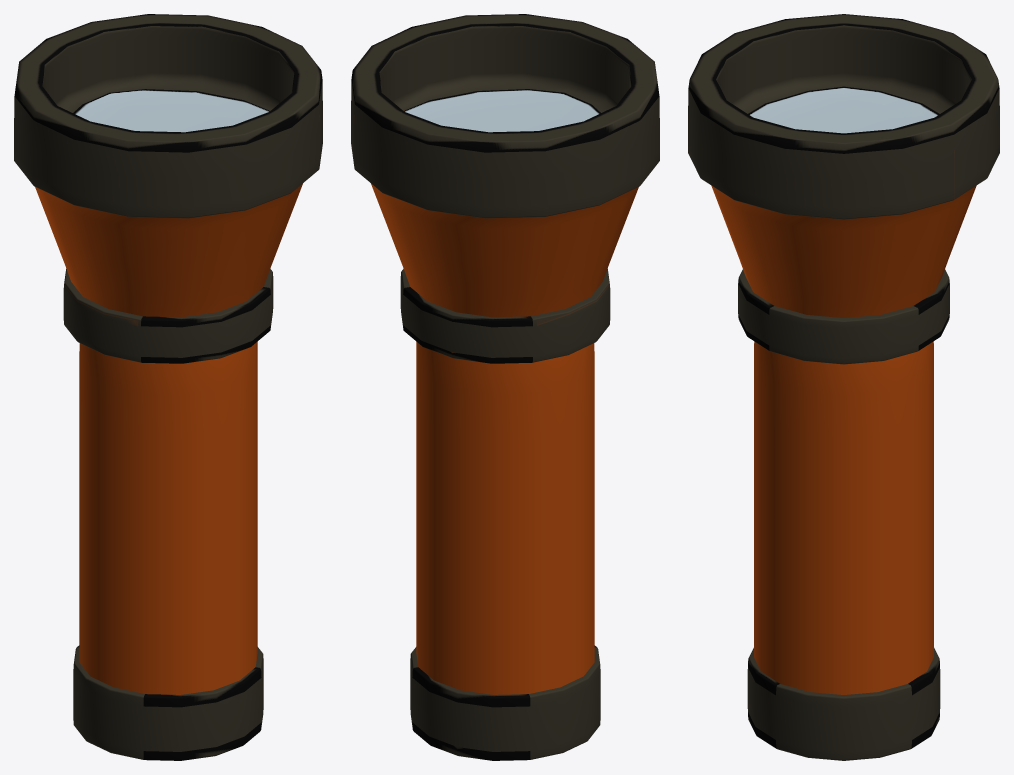
Rendered from flashlight.fbx.
3 renders of one model, left to right at view 1: azimuth 30°, elevation 25°; view 2: azimuth 150°, elevation 25°; view 3: azimuth 270°, elevation 25°, orthographic.
Parts seen in each view (by area): view 1: flashlight1; view 2: flashlight1; view 3: flashlight1.
Part boxes in pixels (left/top/right/bottom): flashlight1: left=14, top=14, right=322, bottom=760; flashlight1: left=351, top=14, right=659, bottom=760; flashlight1: left=688, top=14, right=999, bottom=760.
Bounding box in the file's own units: 0.4339 × 0.9863 × 0.4339.
Materials: 1 (1 with a texture image).
